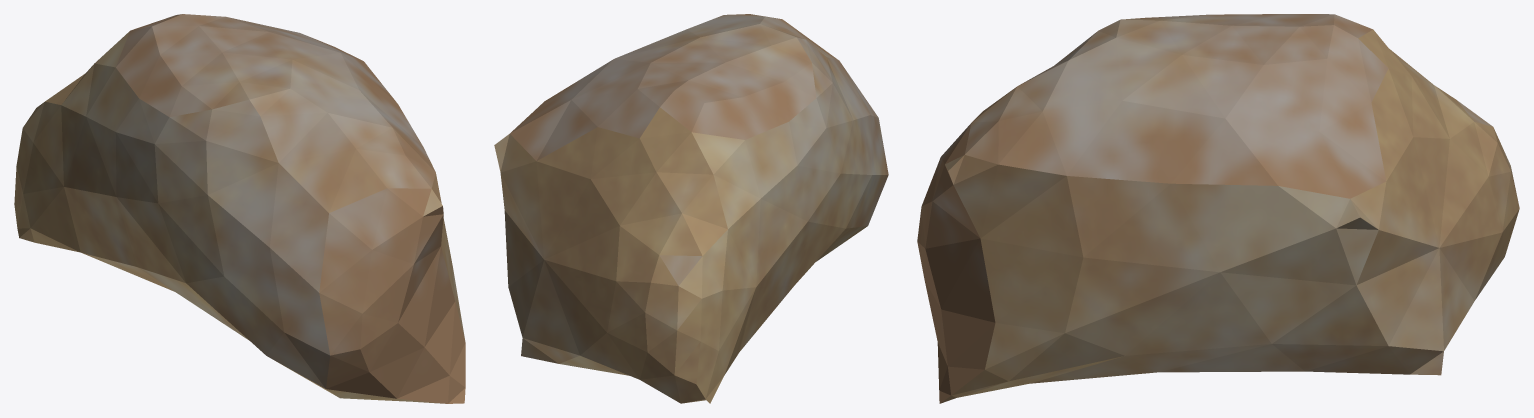
Rendered from PedraLargaHP.fbx.
The picture shows the model from 3 angles, left to right: view 1: azimuth 30°, elevation 25°; view 2: azimuth 150°, elevation 25°; view 3: azimuth 270°, elevation 25°; orthographic projection. The views are drawn at different scales.
Parts seen in each view (by area): view 1: PedraLarga; view 2: PedraLarga; view 3: PedraLarga.
Boxes of the visible parts, x1,y1,x2,y2 form: PedraLarga: (14,14,465,403); PedraLarga: (494,14,888,403); PedraLarga: (917,14,1519,403).
Bounding box in the file's own units: 144 × 145 × 246.
